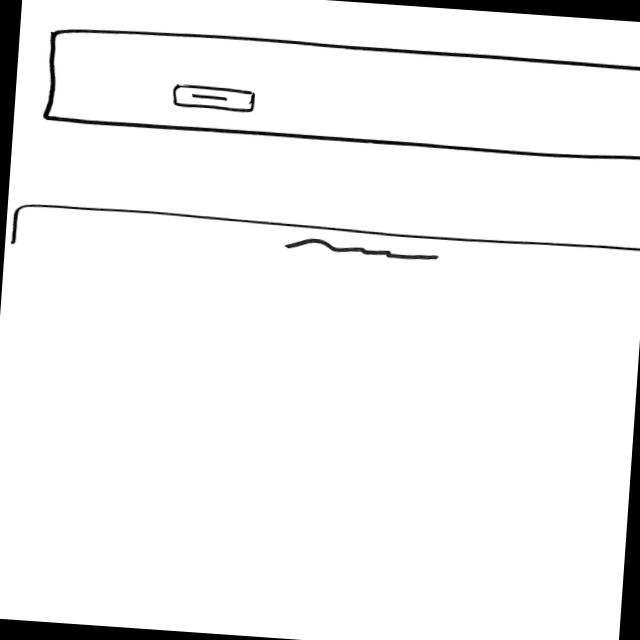container: (39, 23, 640, 164)
icon-button: (171, 82, 260, 115)
text: (280, 236, 443, 265)
